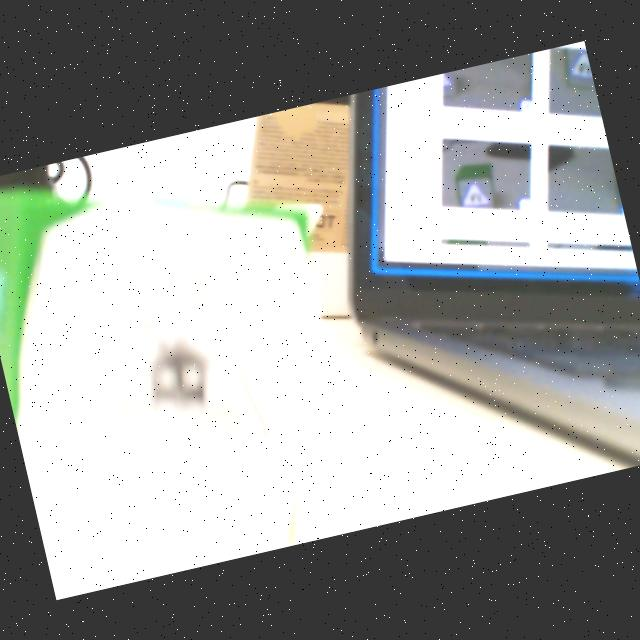Tsunami: (73, 272, 268, 443)
